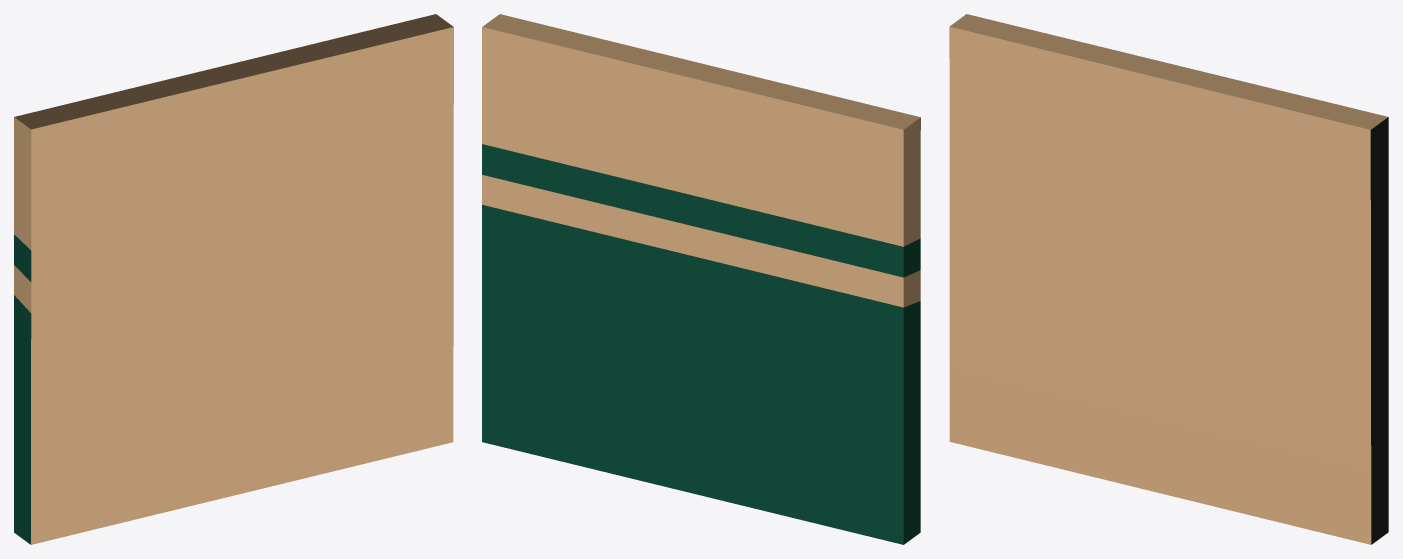
Rendered from Wall 2.fbx.
3 renders of one model, left to right at view 1: azimuth 30°, elevation 25°; view 2: azimuth 150°, elevation 25°; view 3: azimuth 330°, elevation 25°, orthographic.
Visible parts, largest first — view 1: Wall 2; view 2: Wall 2; view 3: Wall 2.
Boxes of the visible parts, x1,y1,x2,y2 form: Wall 2: (14, 14, 453, 544); Wall 2: (482, 14, 920, 544); Wall 2: (949, 14, 1388, 544).
Size of the model in its own units: 0.3732 by 4.83 by 5.13.
